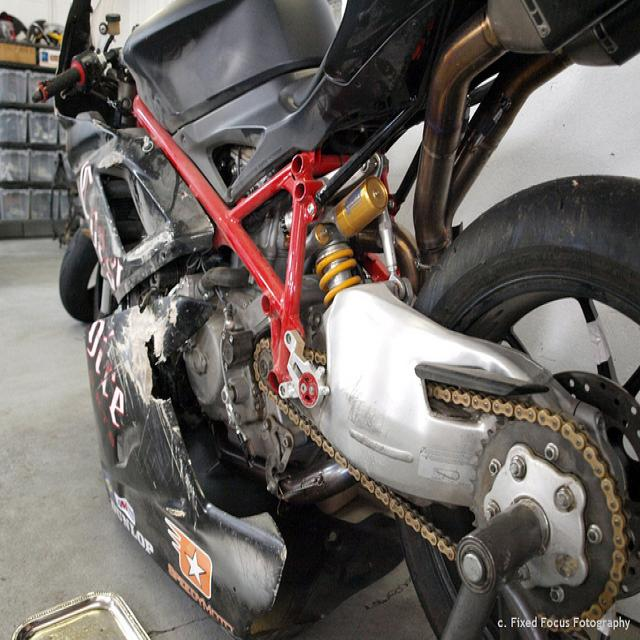motor: (32, 6, 639, 630)
